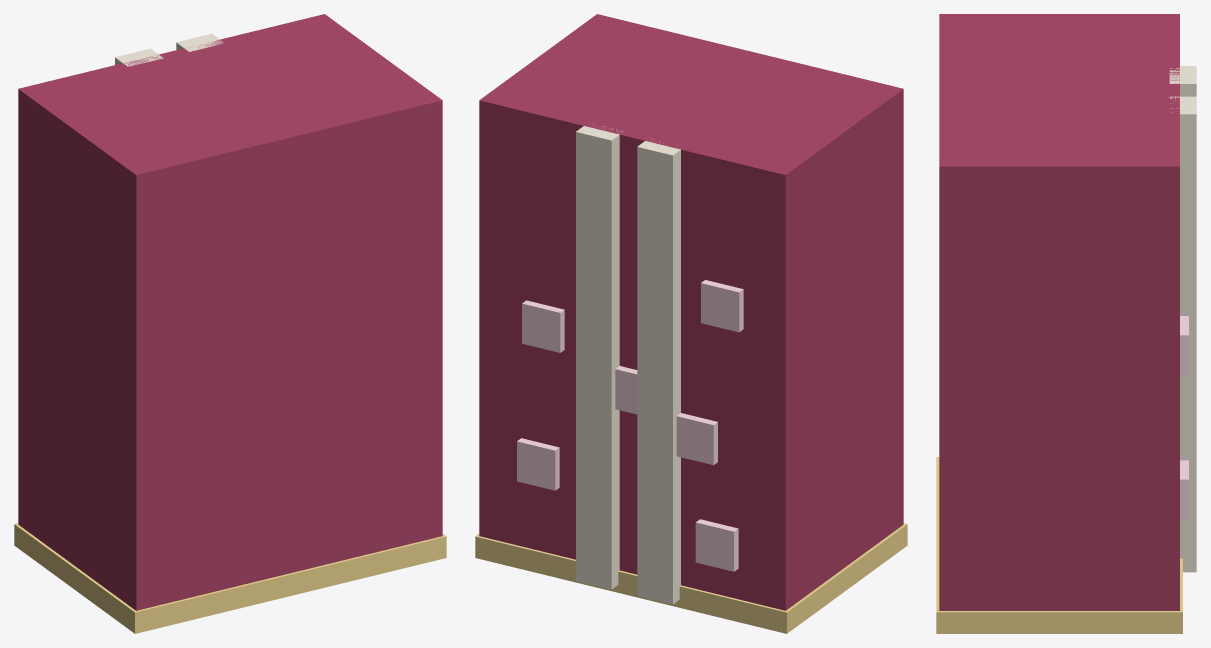
The model's file is furisode_saia.glb.
3 views of the same model, side by side, from view 1: azimuth 30°, elevation 25°; view 2: azimuth 150°, elevation 25°; view 3: azimuth 270°, elevation 25° (orthographic).
Parts seen in each view (by area): view 1: furisode_saia; view 2: furisode_saia; view 3: furisode_saia.
Boxes of the visible parts, x1,y1,x2,y2 form: furisode_saia: (14,14,446,633); furisode_saia: (475,14,907,633); furisode_saia: (936,14,1196,633).
Bounding box in the file's own units: 0.61 × 0.855 × 0.4325.
